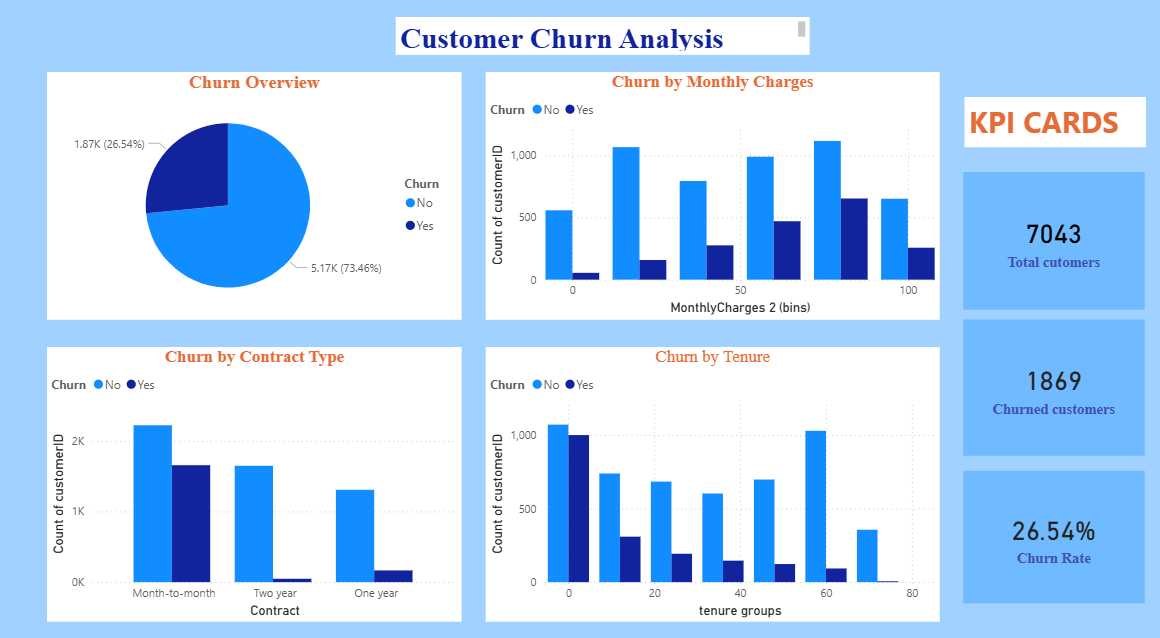

This screenshot's page, from the dashboard's own definition file:
{"tool":"powerbi","page":{"name":"Page 1","canvas":[1280,720],"ordinal":0},"visuals":[{"type":"clusteredColumnChart","title":"Churn by Contract Type","fields":{"Series":["task 2 telco.Churn"],"Category":["task 2 telco.Contract"],"Y":["CountNonNull(task 2 telco.customerID)"]},"box":[54.9,389.7,455.6,301.9],"z":0},{"type":"pieChart","title":"Churn Overview","fields":{"Category":["task 2 telco.Churn"],"Y":["CountNonNull(task 2 telco.customerID)"]},"box":[54.9,87.8,455.6,271.7],"z":1000},{"type":"clusteredColumnChart","title":"Churn by Tenure","fields":{"Series":["task 2 telco.Churn"],"Y":["CountNonNull(task 2 telco.customerID)"],"Category":["task 2 telco.tenure (bins) 2"]},"box":[536.5,389.7,498.1,301.9],"z":2000},{"type":"clusteredColumnChart","title":"Churn by Monthly Charges","fields":{"Series":["task 2 telco.Churn"],"Y":["CountNonNull(task 2 telco.customerID)"],"Category":["task 2 telco (2).MonthlyCharges 2 (bins)"]},"box":[536.5,87.8,498.1,271.7],"z":3000},{"type":"textbox","box":[437.8,27.3,454.4,41.5],"z":4000},{"type":"card","fields":{"Values":["CountNonNull(task 2 telco.customerID)"]},"box":[1060.7,197.6,199,150.9],"z":5000},{"type":"card","fields":{"Values":["CountNonNull(task 2 telco.customerID)"]},"box":[1060.7,359.5,199,149.6],"z":6000},{"type":"card","fields":{"Values":["Dashboard.Churn Rate"]},"box":[1060.7,525.6,199,145.5],"z":7000},{"type":"textbox","box":[1062.1,115.3,199,54.9],"z":7001}]}

Visuals, with their boxes in screenshot pixels (x1, y1, x2, y2), scaled from the page's 1280x720 canvas onto the 1160x638 screenshot:
"Churn by Contract Type" clusteredColumnChart: BBox(50, 345, 463, 613)
"Churn Overview" pieChart: BBox(50, 78, 463, 319)
"Churn by Tenure" clusteredColumnChart: BBox(486, 345, 938, 613)
"Churn by Monthly Charges" clusteredColumnChart: BBox(486, 78, 938, 319)
textbox: BBox(397, 24, 809, 61)
card - CountNonNull(task 2 telco.customerID): BBox(961, 175, 1142, 309)
card - CountNonNull(task 2 telco.customerID): BBox(961, 319, 1142, 451)
card - Dashboard.Churn Rate: BBox(961, 466, 1142, 595)
textbox: BBox(963, 102, 1143, 151)
